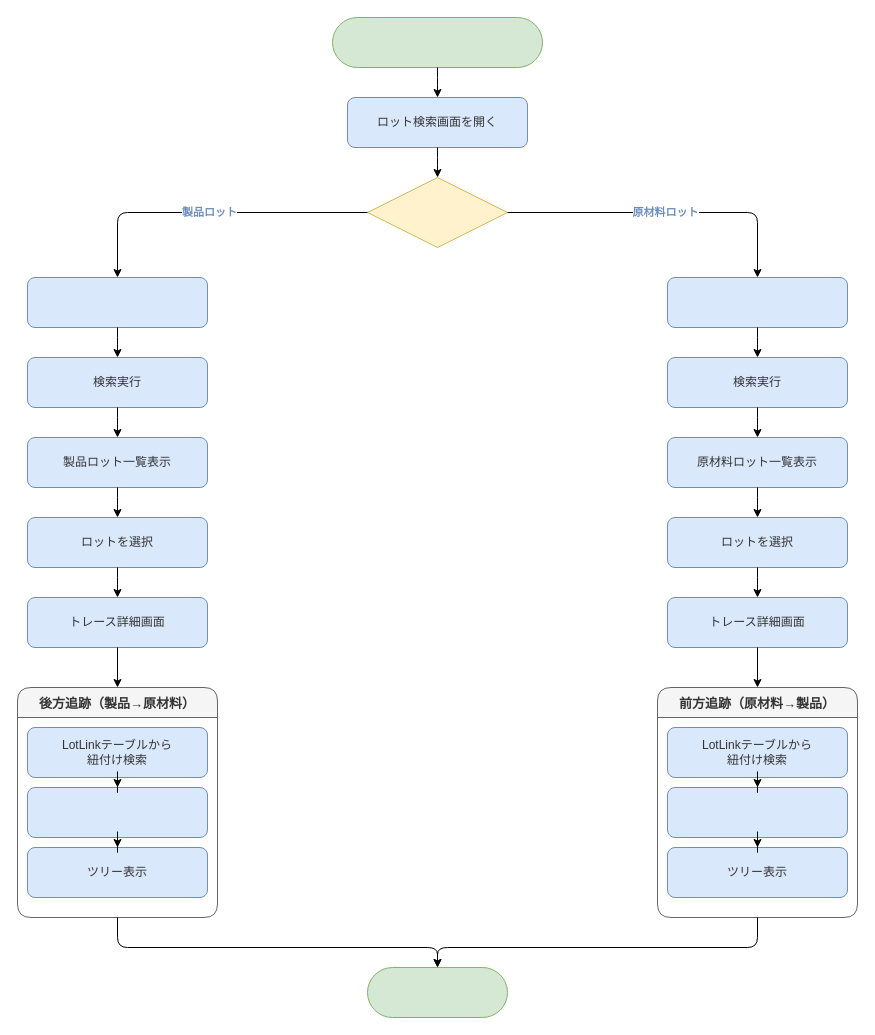
Some shapes in this 875 by 1035 pixel diagram are drawn without their labels. Here are the shapes that lost their labels. From the top down, the centre of each, then its label:
At (437,42): "トレーサビリティ業務開始".
At (437,212): "検索対象は？".
At (117,302): "キーワード入力 (ロット番号/製品名)".
At (757,302): "キーワード入力 (ロット番号/原材料名)".
At (117,812): "原材料ロット一覧取得".
At (757,812): "製品ロット一覧取得".
At (437,992): "終了".
